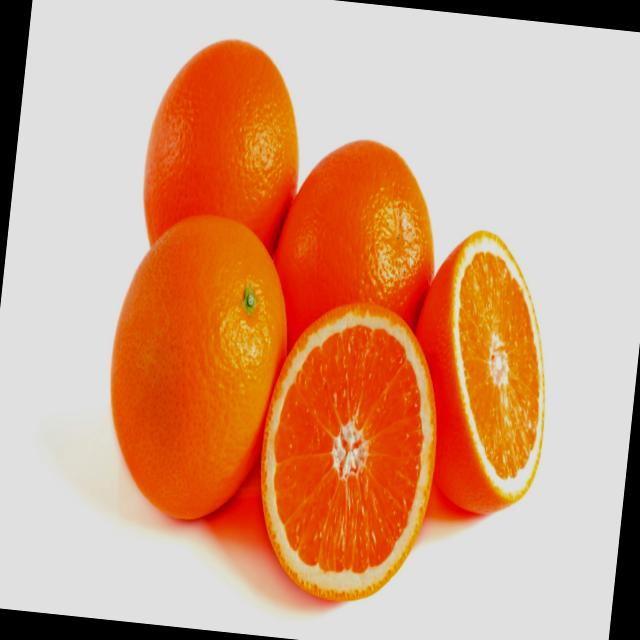Fresh_Orange: (74, 184, 306, 562), (227, 265, 461, 627), (379, 211, 599, 538), (240, 95, 458, 398), (133, 22, 326, 268)
